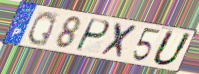5: (131, 26, 163, 62)
8: (54, 16, 82, 50)
P: (73, 17, 112, 54)
Q: (25, 10, 58, 48)
U: (150, 28, 194, 67)
X: (98, 21, 140, 61)
